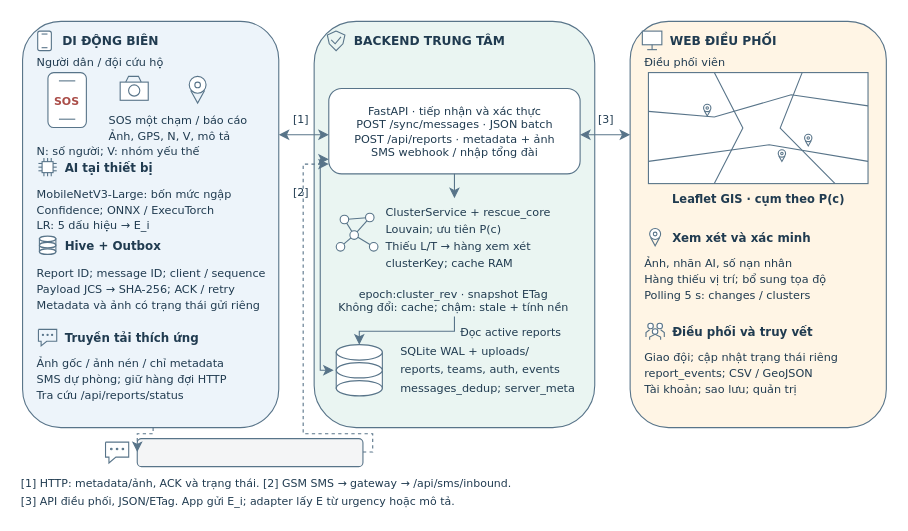
This 908x531 diagram has some shape labels left out. The shapes that lost their labels are listed below. From the top down, each one's box as (x1, y1, x2, y2) in pixels, then its label:
(647, 71, 868, 184): Bản đồ minh họa
(136, 437, 363, 467): SMS gateway → webhook
